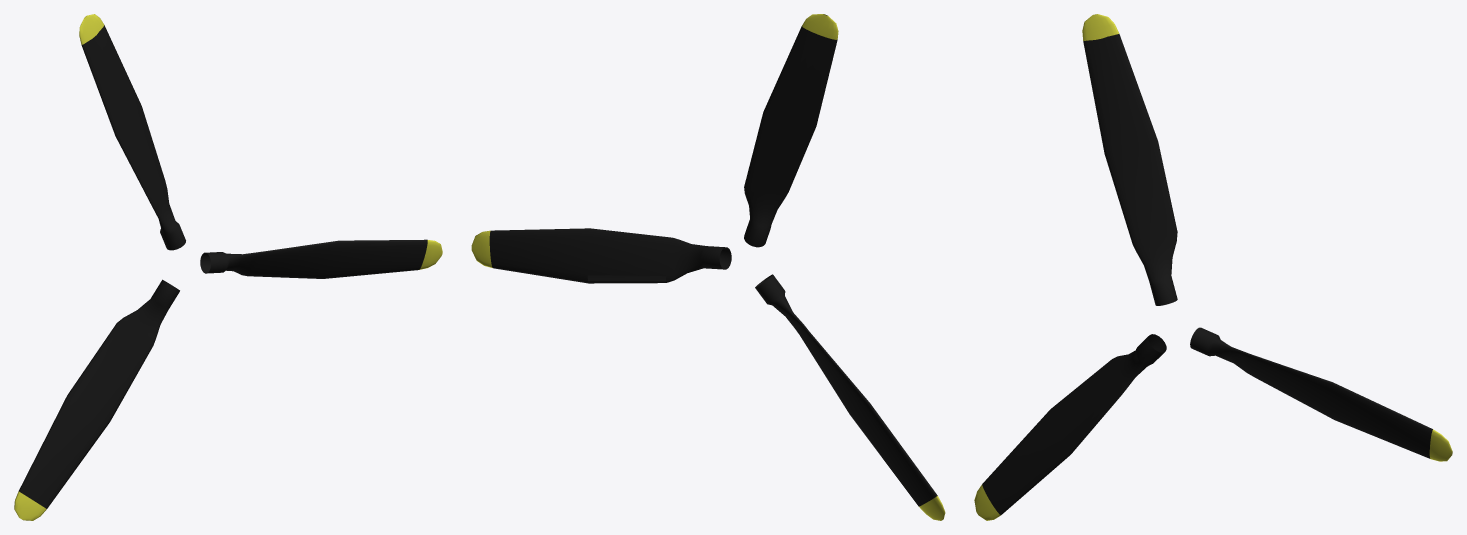
The model's file is Helices.obj.
3 views of the same model, side by side, from view 1: azimuth 30°, elevation 25°; view 2: azimuth 150°, elevation 25°; view 3: azimuth 330°, elevation 25° (orthographic). The views are drawn at different scales.
Parts seen in each view (by area): view 1: pasted__polySurface196 polySurface26, polySurface28 pasted__polySurface196, pasted__polySurface196 polySurface27; view 2: polySurface28 pasted__polySurface196, pasted__polySurface196 polySurface27, pasted__polySurface196 polySurface26; view 3: pasted__polySurface196 polySurface27, pasted__polySurface196 polySurface26, polySurface28 pasted__polySurface196.
Boxes of the visible parts, bbox=[...] form: pasted__polySurface196 polySurface26: bbox=[14, 279, 179, 520]; polySurface28 pasted__polySurface196: bbox=[200, 239, 442, 278]; pasted__polySurface196 polySurface27: bbox=[79, 14, 185, 250]; polySurface28 pasted__polySurface196: bbox=[471, 228, 731, 283]; pasted__polySurface196 polySurface27: bbox=[744, 14, 838, 247]; pasted__polySurface196 polySurface26: bbox=[755, 274, 945, 520]; pasted__polySurface196 polySurface27: bbox=[1082, 14, 1177, 305]; pasted__polySurface196 polySurface26: bbox=[974, 334, 1166, 520]; polySurface28 pasted__polySurface196: bbox=[1190, 327, 1452, 461].
Bounding box in the file's own units: 0.8471 × 0.873 × 0.0902.
